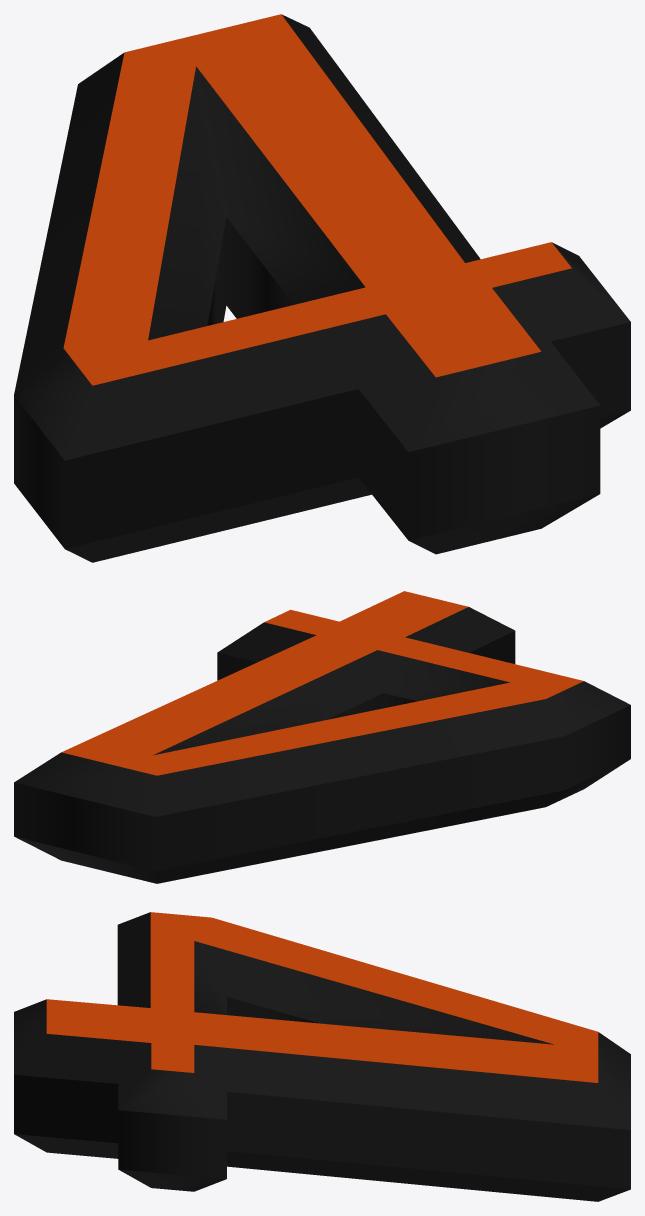
3 renders of one model, top to bottom at view 1: azimuth 30°, elevation 25°; view 2: azimuth 150°, elevation 25°; view 3: azimuth 270°, elevation 25°, orthographic. The views are drawn at different scales.
Parts seen in each view (by area): view 1: Text; view 2: Text; view 3: Text.
Boxes of the visible parts, x1,y1,x2,y2 form: Text: [14, 14, 630, 562]; Text: [14, 591, 630, 883]; Text: [14, 912, 630, 1201].
Bounding box in the file's own units: 0.5935 × 0.16 × 0.7533.
